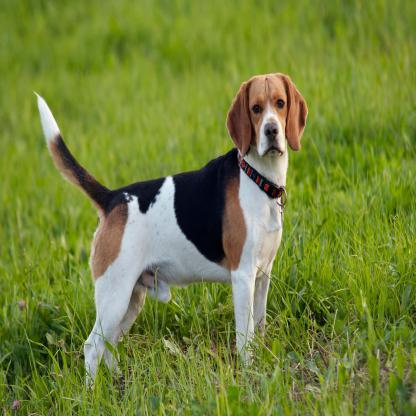Bigl: (32, 69, 310, 390)
